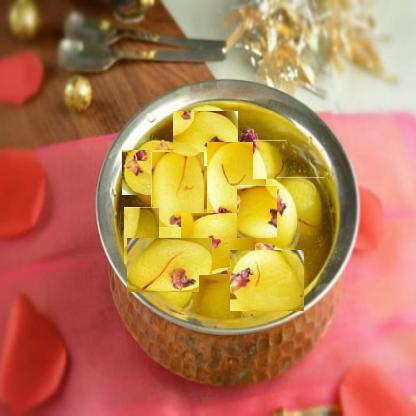rasgulla: (134, 230, 204, 300), (206, 141, 266, 219), (184, 209, 252, 277), (233, 246, 301, 314), (151, 151, 204, 227), (241, 181, 302, 242), (175, 108, 235, 170), (127, 143, 184, 200), (278, 177, 326, 240), (123, 207, 159, 264), (199, 275, 243, 319), (253, 140, 287, 179)
